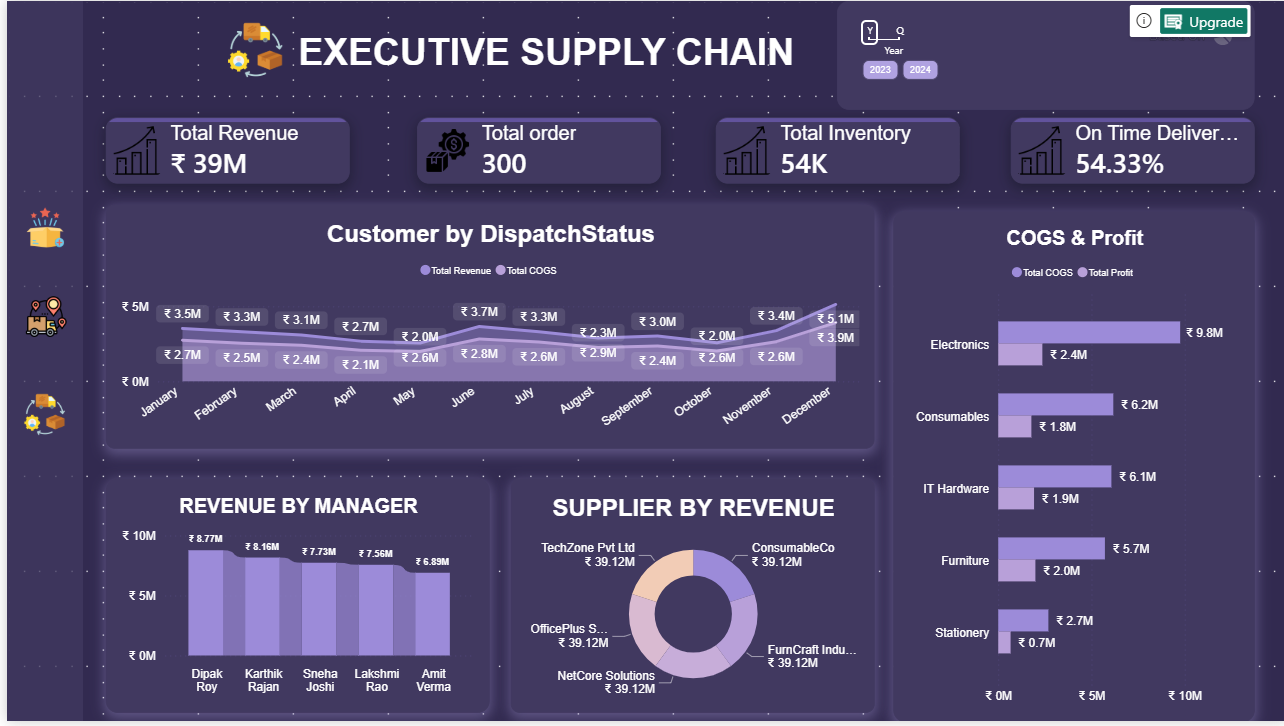

The dashboard page shown, as its layout file describes it:
{"tool":"powerbi","page":{"name":"Executive Supply Chain Dashboard","canvas":[1280,720],"ordinal":3},"visuals":[{"type":"cardVisual","fields":{"Data":["calculation.Total Revenue"]},"box":[98.8,116.2,243.9,66.2],"z":0,"group":"g2"},{"type":"clusteredBarChart","title":" COGS & Profit ","fields":{"Category":["dim_product.Category"],"Y":["calculation.Total COGS","calculation.Total Profit"]},"box":[886.4,209.5,361.6,511.2],"z":0},{"type":"textbox","box":[0,0,75.7,720],"z":1,"group":"g1"},{"type":"image","box":[0,191.2,76.2,70],"z":501,"group":"g1"},{"type":"textbox","box":[274.3,30,541.4,61.4],"z":1000},{"type":"group","id":"g1","title":"Group 1","box":[0,0,76.2,720],"z":2000},{"type":"image","box":[175.7,5.7,144.3,85.7],"z":3000},{"type":"cardVisual","fields":{"Data":["calculation.Total order"]},"box":[410.1,116.2,243.9,66.2],"z":4000,"group":"g2"},{"type":"image","box":[1.2,280.5,76.1,71.1],"z":4000},{"type":"cardVisual","fields":{"Data":["calculation.Total Inventory"]},"box":[708.5,116.2,243.9,66.2],"z":5000,"group":"g2"},{"type":"ribbonChart","title":" REVENUE BY MANAGER","fields":{"Y":["calculation.Total Revenue"],"Category":["dim_warehouse.Manager"]},"box":[98.5,477.5,384,234.4],"z":5000},{"type":"donutChart","title":"SUPPLIER BY REVENUE","fields":{"Y":["calculation.Total Revenue"],"Category":["dim_supplier.SupplierName"]},"box":[503.7,477.5,364.1,234.4],"z":6000},{"type":"cardVisual","fields":{"Data":["calculation.On Time Delivery %"]},"box":[1003.7,116.2,243.9,66.2],"z":7000,"group":"g2"},{"type":"lineChart","title":"Customer by DispatchStatus","fields":{"Y":["calculation.Total Revenue","calculation.Total COGS"],"Category":["dim_date.FullDate.Variation.Date Hierarchy.Year","dim_date.FullDate.Variation.Date Hierarchy.Quarter","dim_date.FullDate.Variation.Date Hierarchy.Month","dim_date.FullDate.Variation.Date Hierarchy.Day"]},"box":[98.8,203.8,768.8,243.8],"z":7000},{"type":"group","id":"g2","title":"Group 2","box":[98.8,116.2,1148.8,66.2],"z":8000},{"type":"BasedOnTimelineSlicer","fields":{"Time":["dim_date.FullDate"]},"box":[830,0,417.8,108.9],"z":9000},{"type":"image","box":[0,377.1,75.7,71.4],"z":10000}]}

Visuals, with their boxes in screenshot pixels (x1, y1, x2, y2), scaled from the page's 1280x720 canvas onto the 1284x726 screenshot:
cardVisual - calculation.Total Revenue: Rect(99, 117, 344, 184)
" COGS & Profit " clusteredBarChart: Rect(889, 211, 1252, 725)
textbox: Rect(0, 0, 76, 725)
image: Rect(0, 193, 76, 263)
textbox: Rect(275, 30, 818, 92)
"Group 1" group: Rect(0, 0, 76, 725)
image: Rect(176, 6, 321, 92)
cardVisual - calculation.Total order: Rect(411, 117, 656, 184)
image: Rect(1, 283, 78, 355)
cardVisual - calculation.Total Inventory: Rect(711, 117, 955, 184)
" REVENUE BY MANAGER" ribbonChart: Rect(99, 481, 484, 718)
"SUPPLIER BY REVENUE" donutChart: Rect(505, 481, 871, 718)
cardVisual - calculation.On Time Delivery %: Rect(1007, 117, 1251, 184)
"Customer by DispatchStatus" lineChart: Rect(99, 205, 870, 451)
"Group 2" group: Rect(99, 117, 1251, 184)
BasedOnTimelineSlicer - dim_date.FullDate: Rect(833, 0, 1252, 110)
image: Rect(0, 380, 76, 452)
